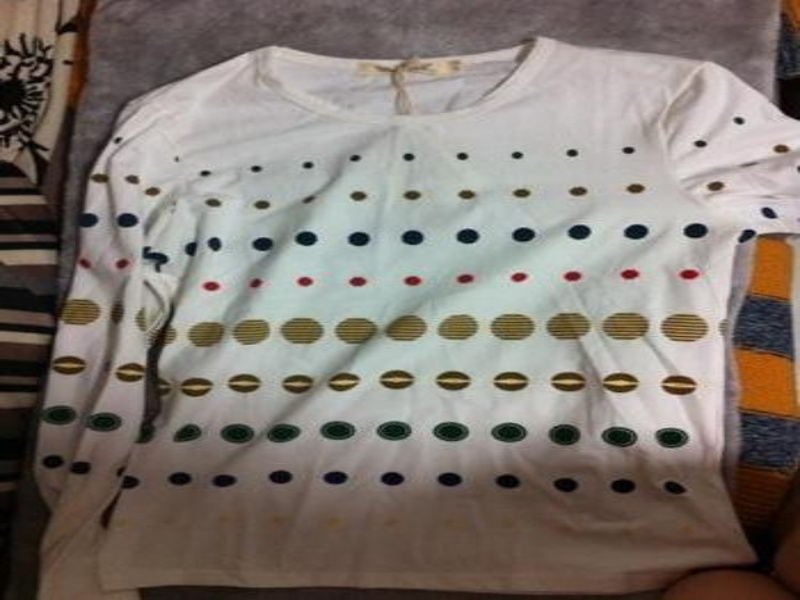long_sleeved_shirt: (23, 36, 798, 599)
